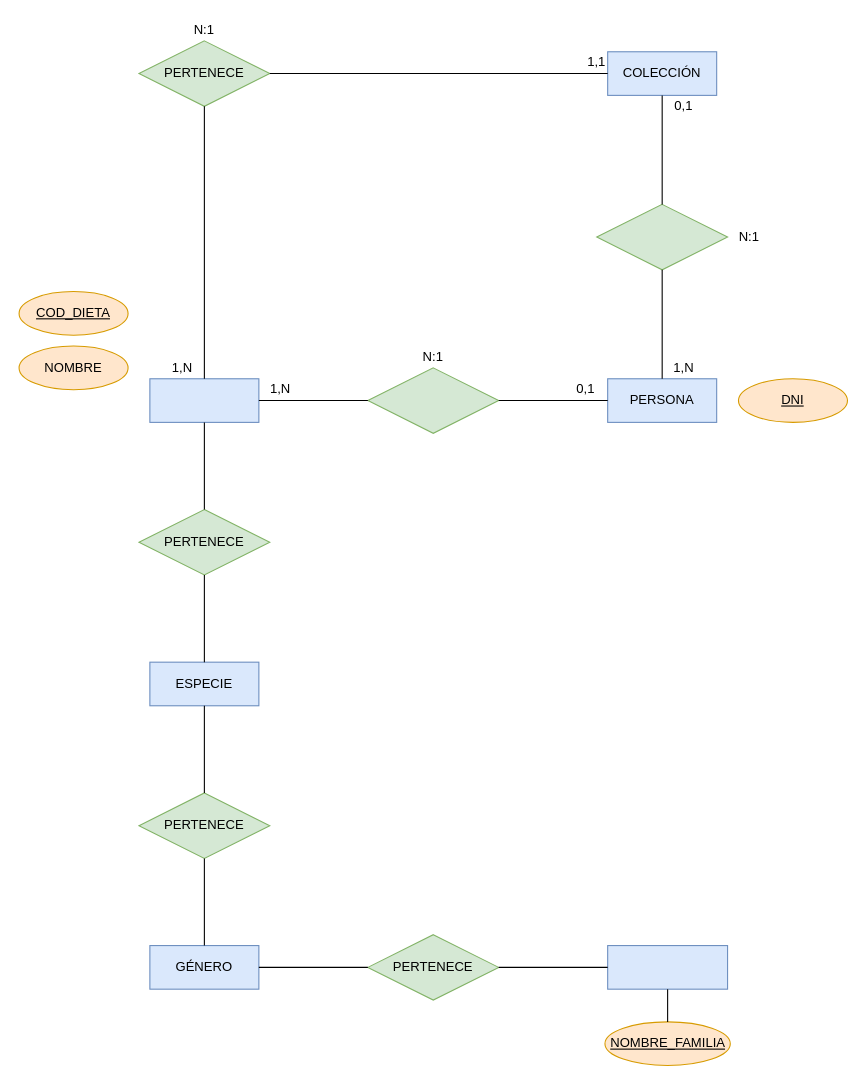
The diagram is 867 pixels wide and 1085 high, and some of its shapes have lost their labels. The centre of each missing label's shape, as x and y in pixels:
"CAPTURADA" belongs at (x=433, y=400).
"FAMILIA_NATURAL" belongs at (x=667, y=966).
"MARIPOSA" belongs at (x=204, y=400).
"TIENE" belongs at (x=662, y=236).
